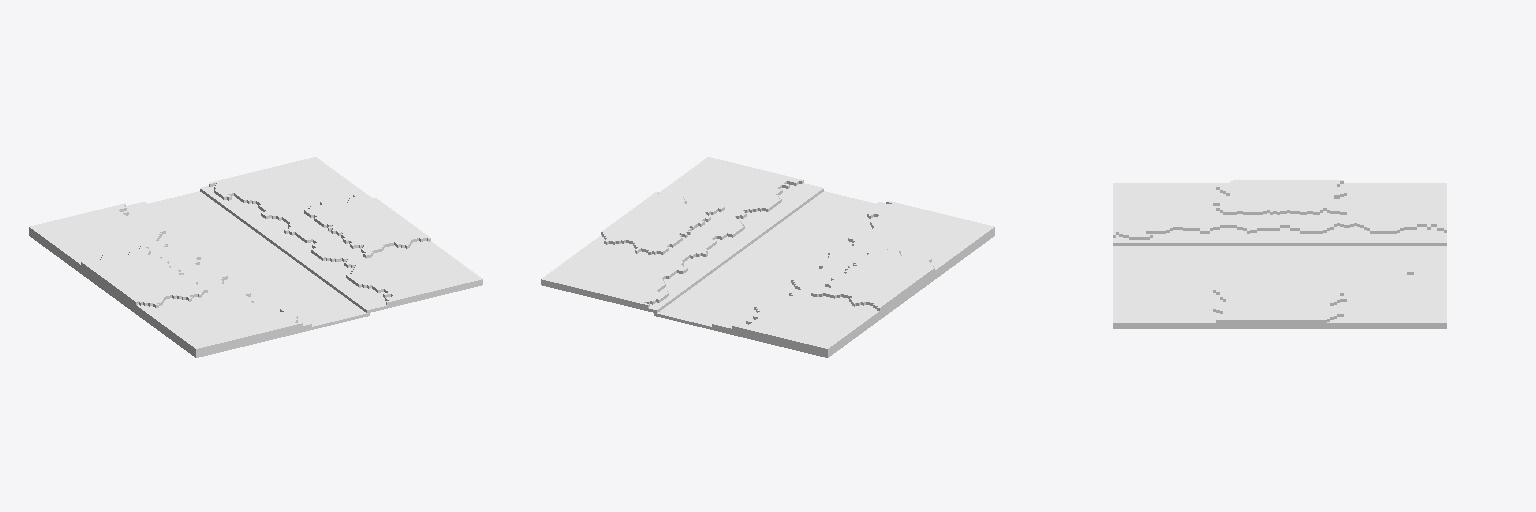
File: JungleMap.obj
3 views of the same model, side by side, from view 1: azimuth 30°, elevation 25°; view 2: azimuth 150°, elevation 25°; view 3: azimuth 270°, elevation 25° (orthographic).
Size of the model in its own units: 99 by 4 by 100.